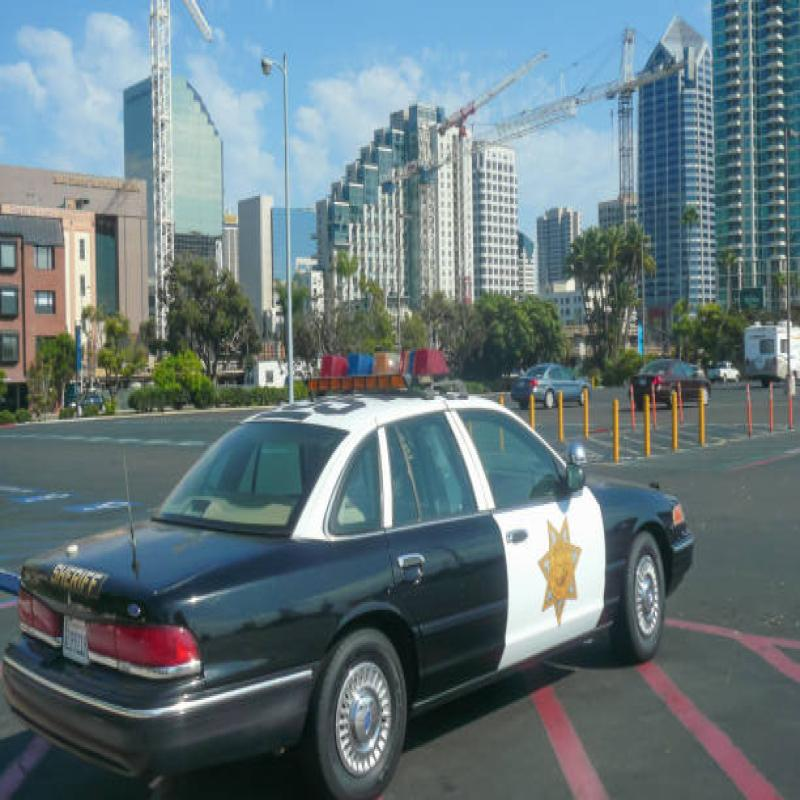AmbulanceSiren: (300, 336, 451, 406)
